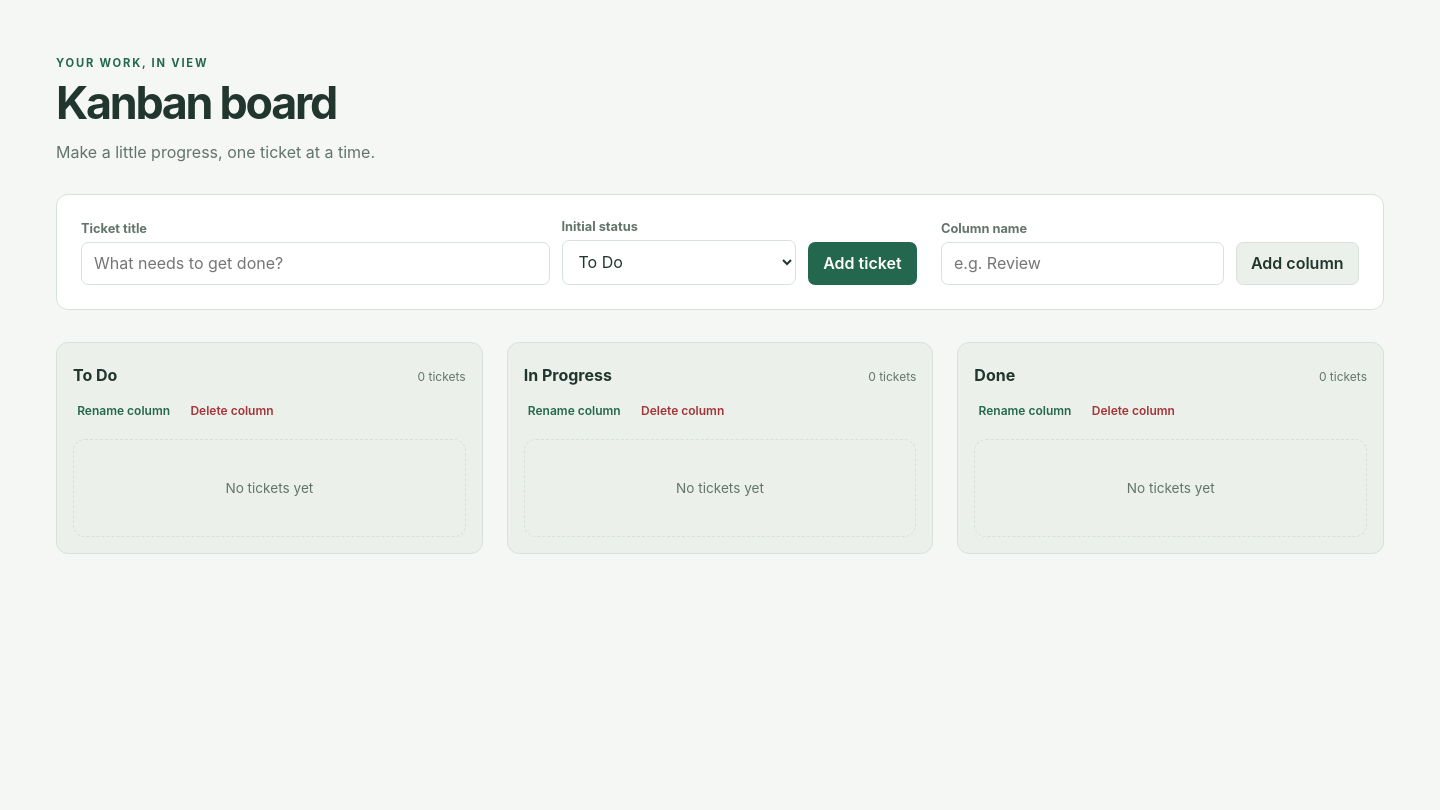
Kanban board acceptance › AC4: lists all current columns and moves a ticket using its keyboard-accessible status select
The image size is (1440, 810).
In the field labelled "Column name": coordinates (1082, 263) [941,242,1224,285], type "Review"
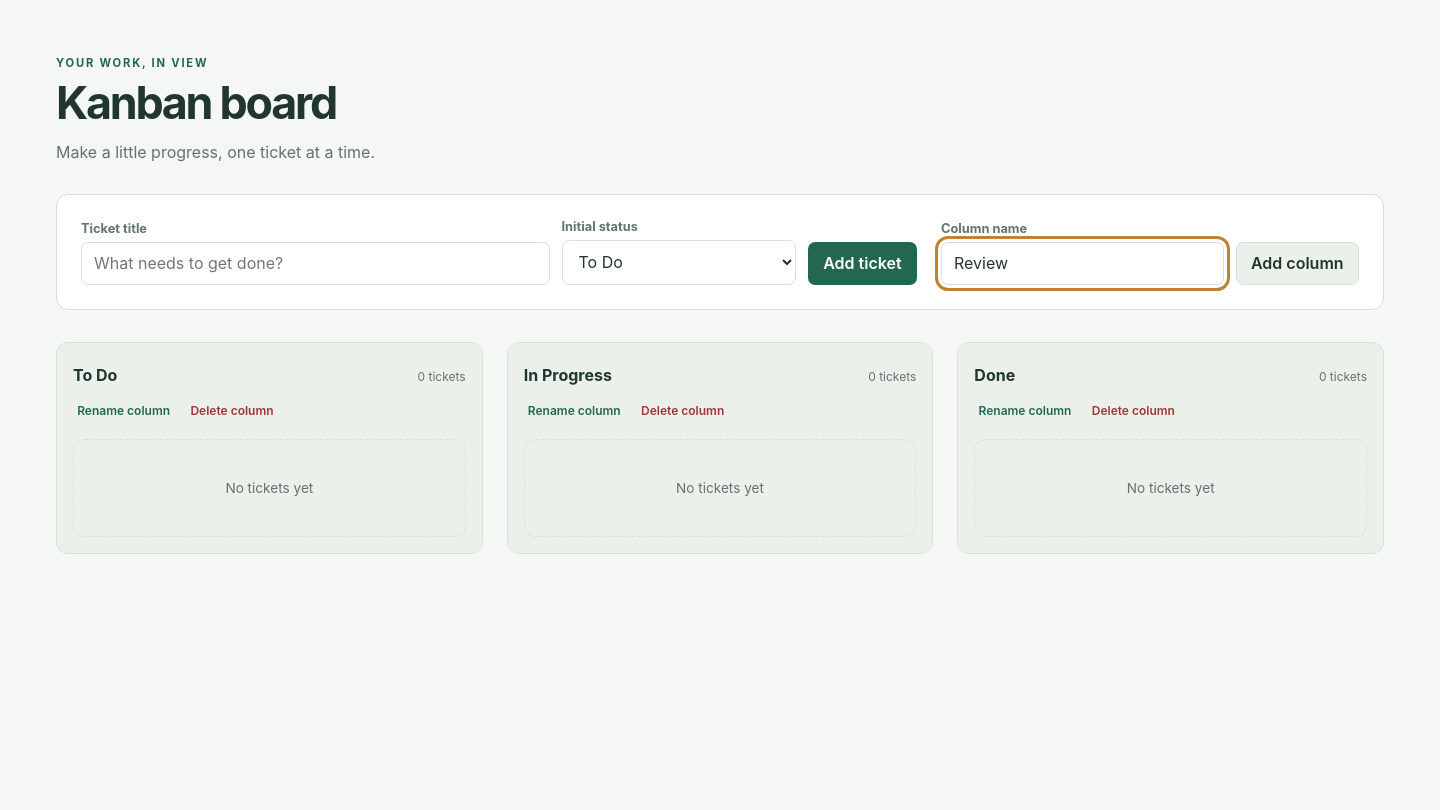
Click the button "Add column": coordinates (1297, 263) [1236,242,1359,285]
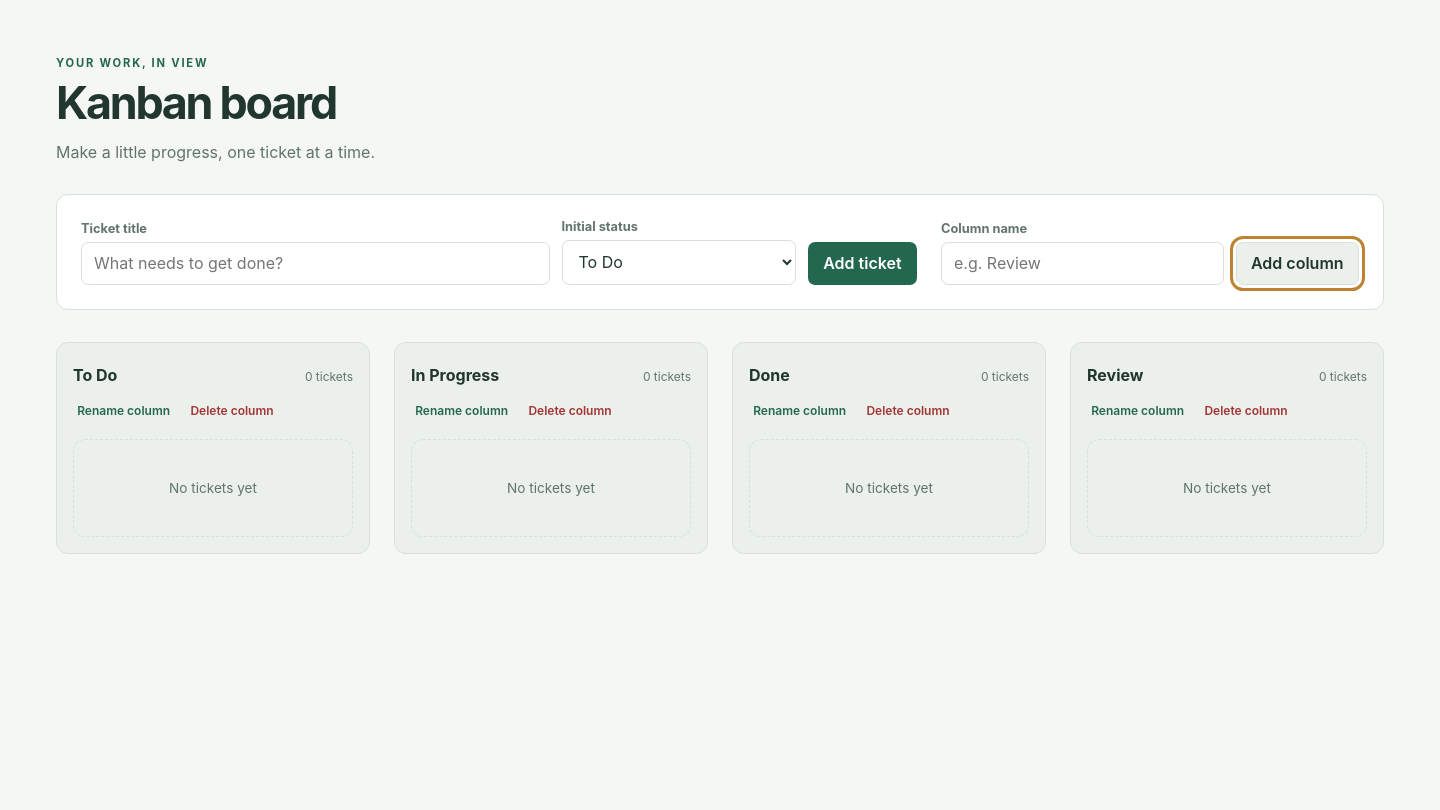
In the field labelled "Ticket title": coordinates (315, 263) [81,242,550,285], type "Keyboard task"
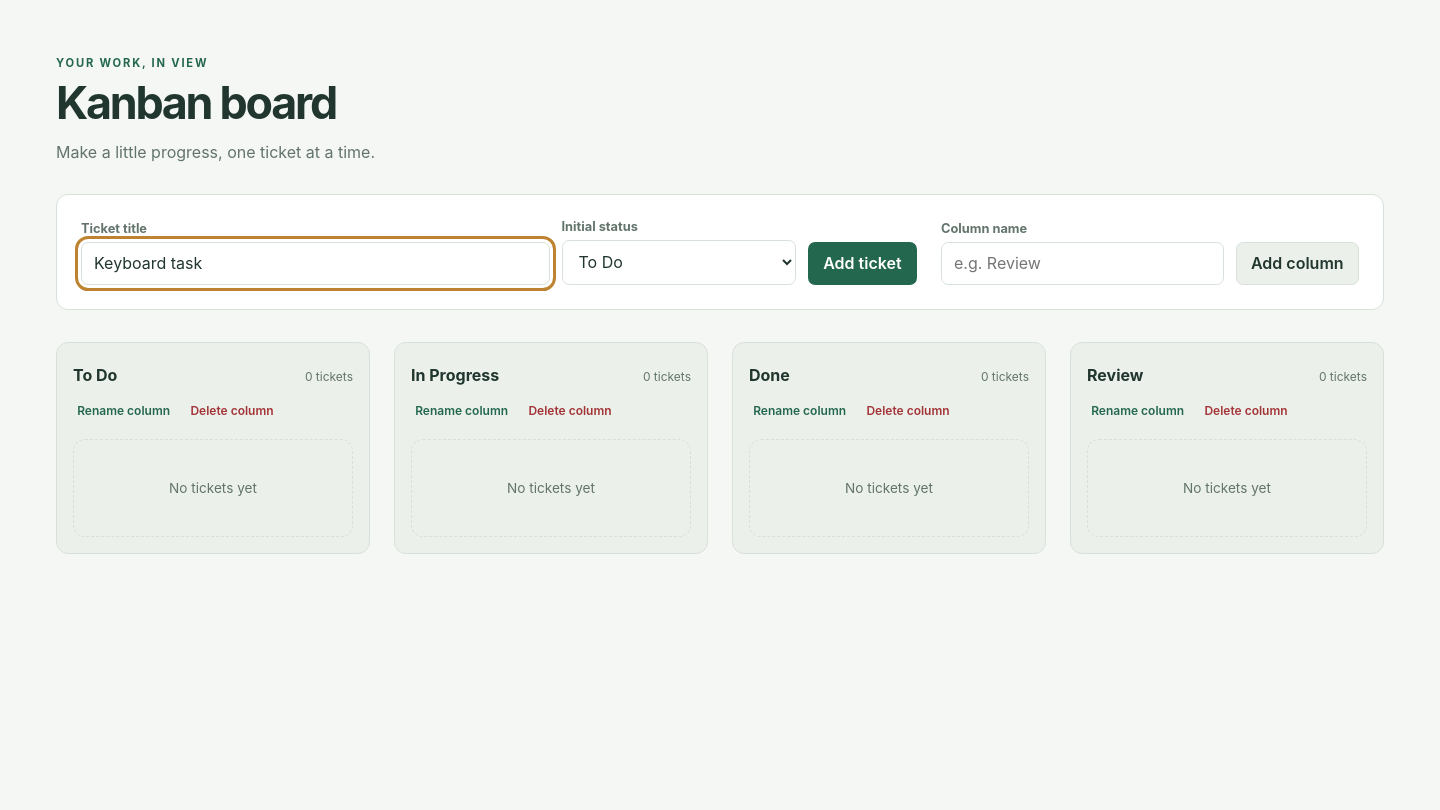
Click the button "Add ticket": coordinates (862, 263) [808,242,917,285]
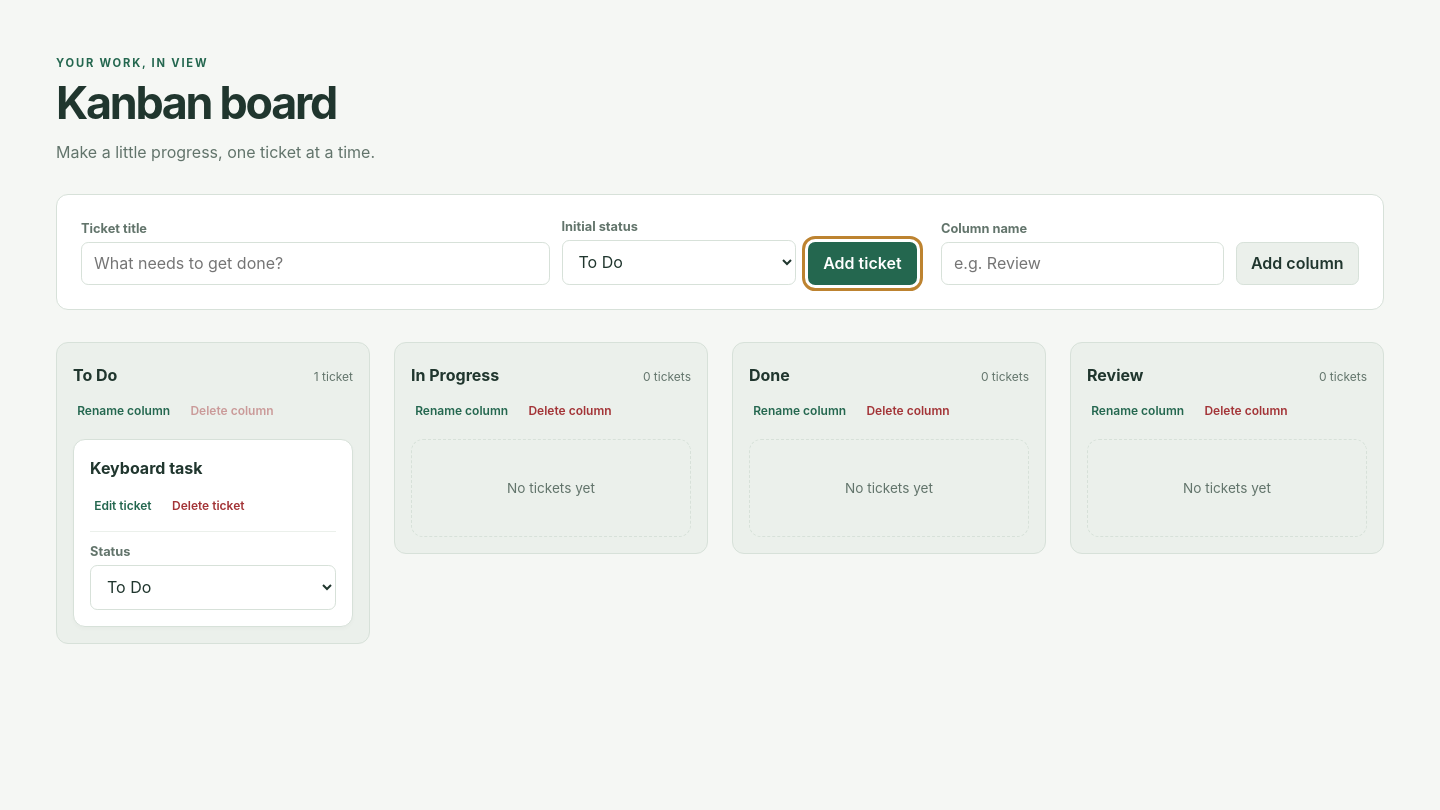
Expected: the dropdown labelled "Status" shows "To Do"
Select "Review" in the dropdown labelled "Status": coordinates (213, 587) [90,565,336,610]
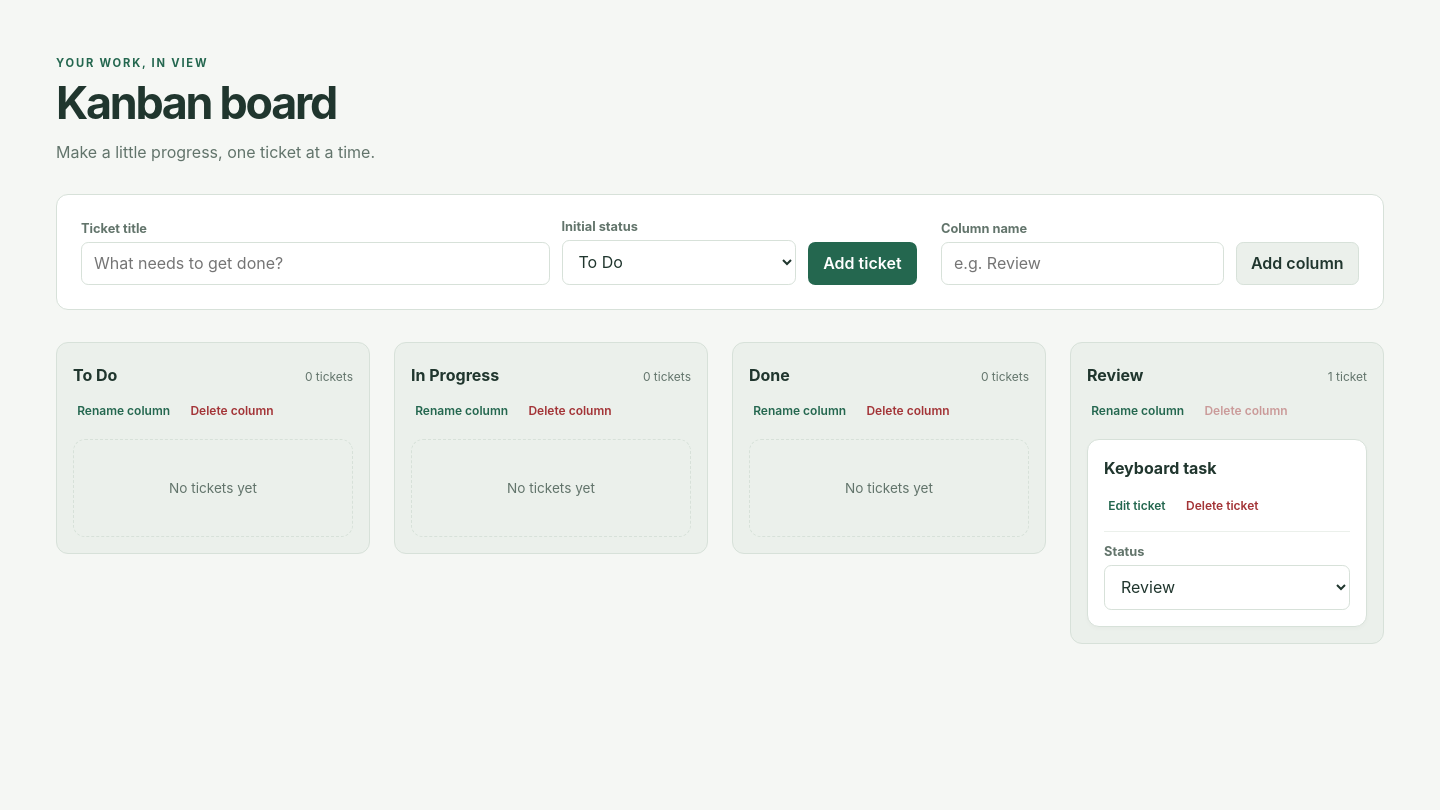
Expected: the element "Keyboard task" is shown, [1087,439,1367,627]
Expected: the dropdown labelled "Status" shows "Review", [1104,565,1350,610]
